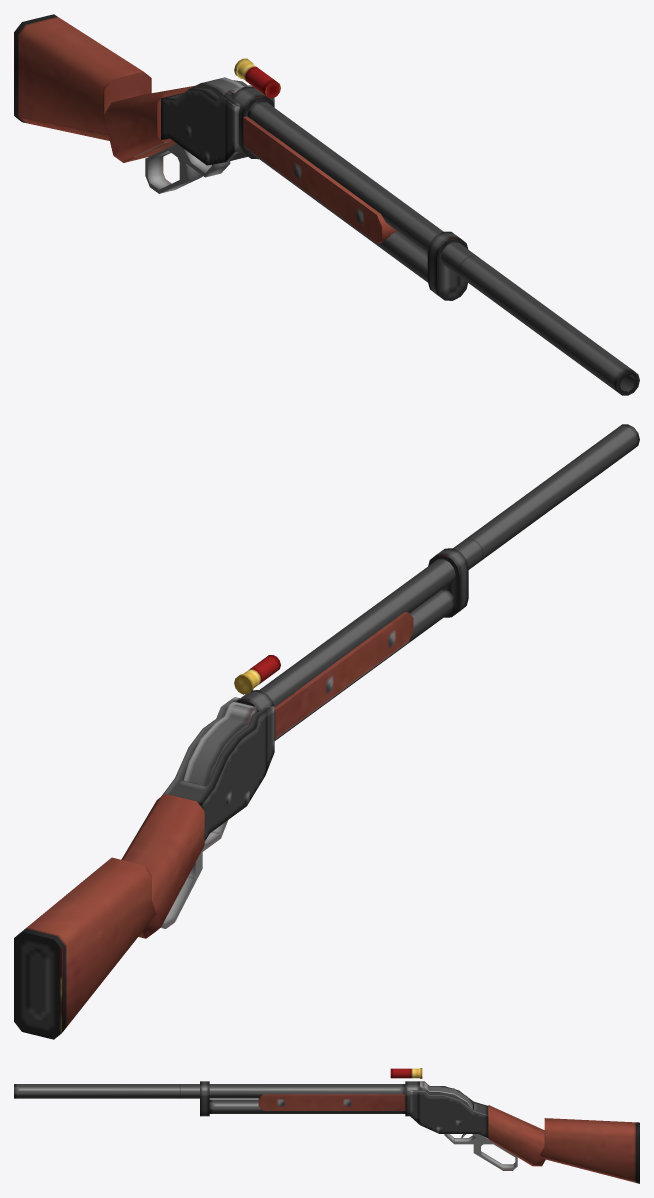
File: maresleg.obj
The picture shows the model from 3 angles, top to bottom: view 1: azimuth 30°, elevation 25°; view 2: azimuth 150°, elevation 25°; view 3: azimuth 270°, elevation 25°; orthographic projection. The views are drawn at different scales.
Parts seen in each view (by area): view 1: Gun, Stock, Barrel, Lever, Shell; view 2: Gun, Stock, Barrel, Lever, Shell; view 3: Gun, Stock, Barrel, Lever, Shell.
Part boxes in pixels (box(x1,y1,x2,y2)): Gun: box(104, 80, 476, 300); Stock: box(14, 14, 151, 140); Barrel: box(459, 256, 639, 395); Lever: box(145, 77, 252, 193); Shell: box(234, 58, 280, 98); Gun: box(121, 539, 483, 938); Stock: box(14, 857, 156, 1039); Barrel: box(465, 424, 639, 560); Lever: box(160, 701, 257, 928); Shell: box(234, 655, 280, 694); Gun: box(180, 1081, 545, 1166); Stock: box(540, 1118, 639, 1183); Barrel: box(14, 1084, 180, 1098); Lever: box(420, 1081, 517, 1170); Shell: box(390, 1068, 422, 1078).
Bounding box in the file's own units: 0.75 × 3.14 × 16.
